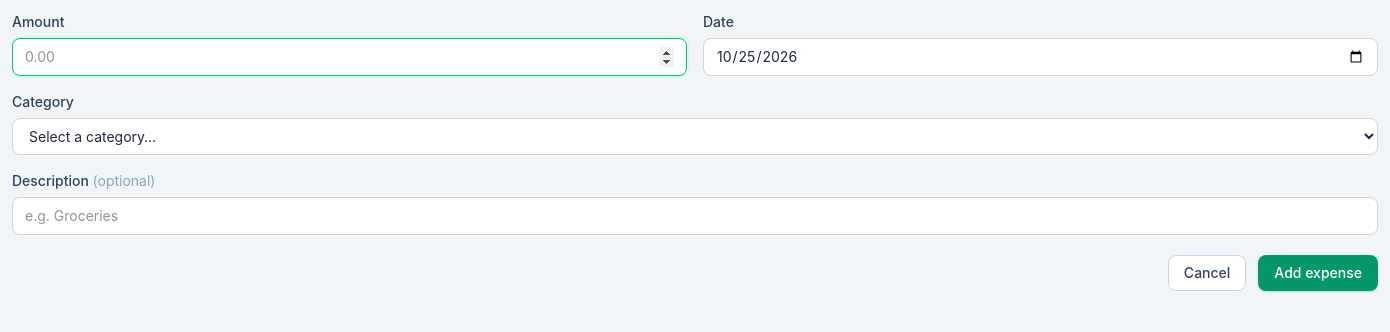
TransactionForm › requires a category for an expense
Type "1200" into the number field labelled "Amount" at (350, 57), box [12,38,687,76]
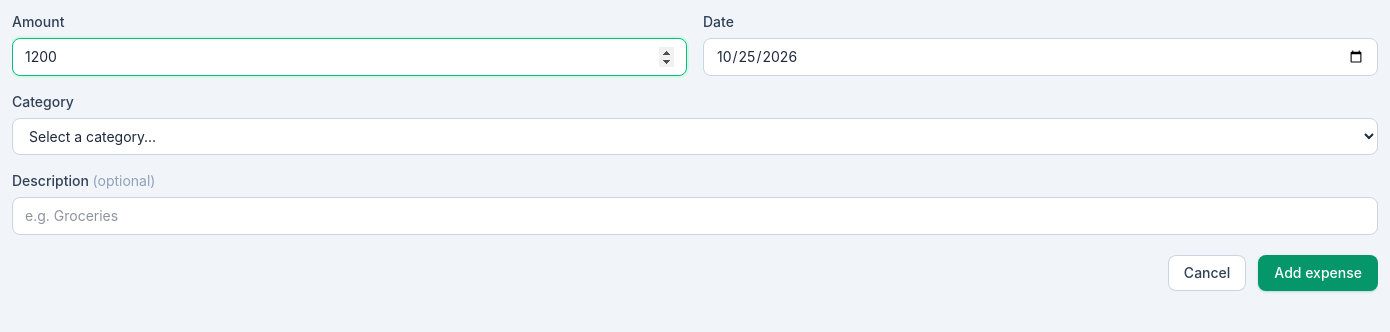
Click the button "Add expense" at (1318, 273), box [1258,255,1378,291]
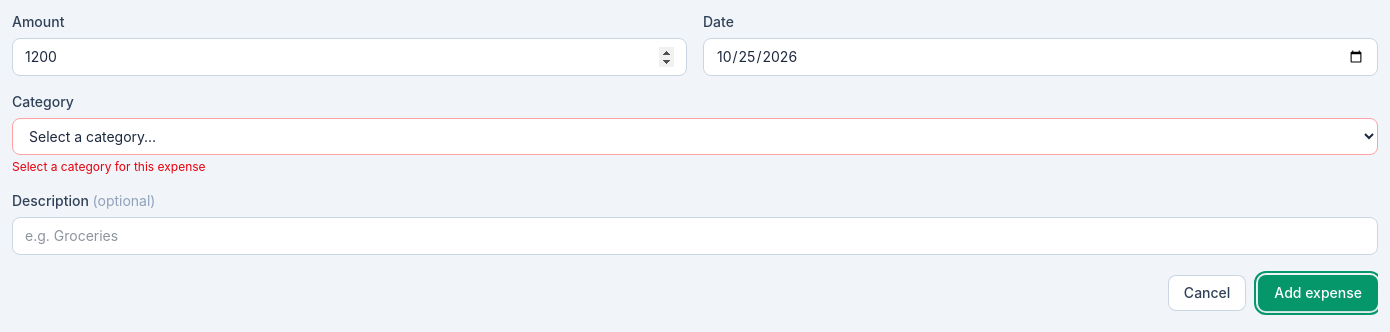
expect the text "Select a category for this expense" is shown: met, box [12,159,206,174]
